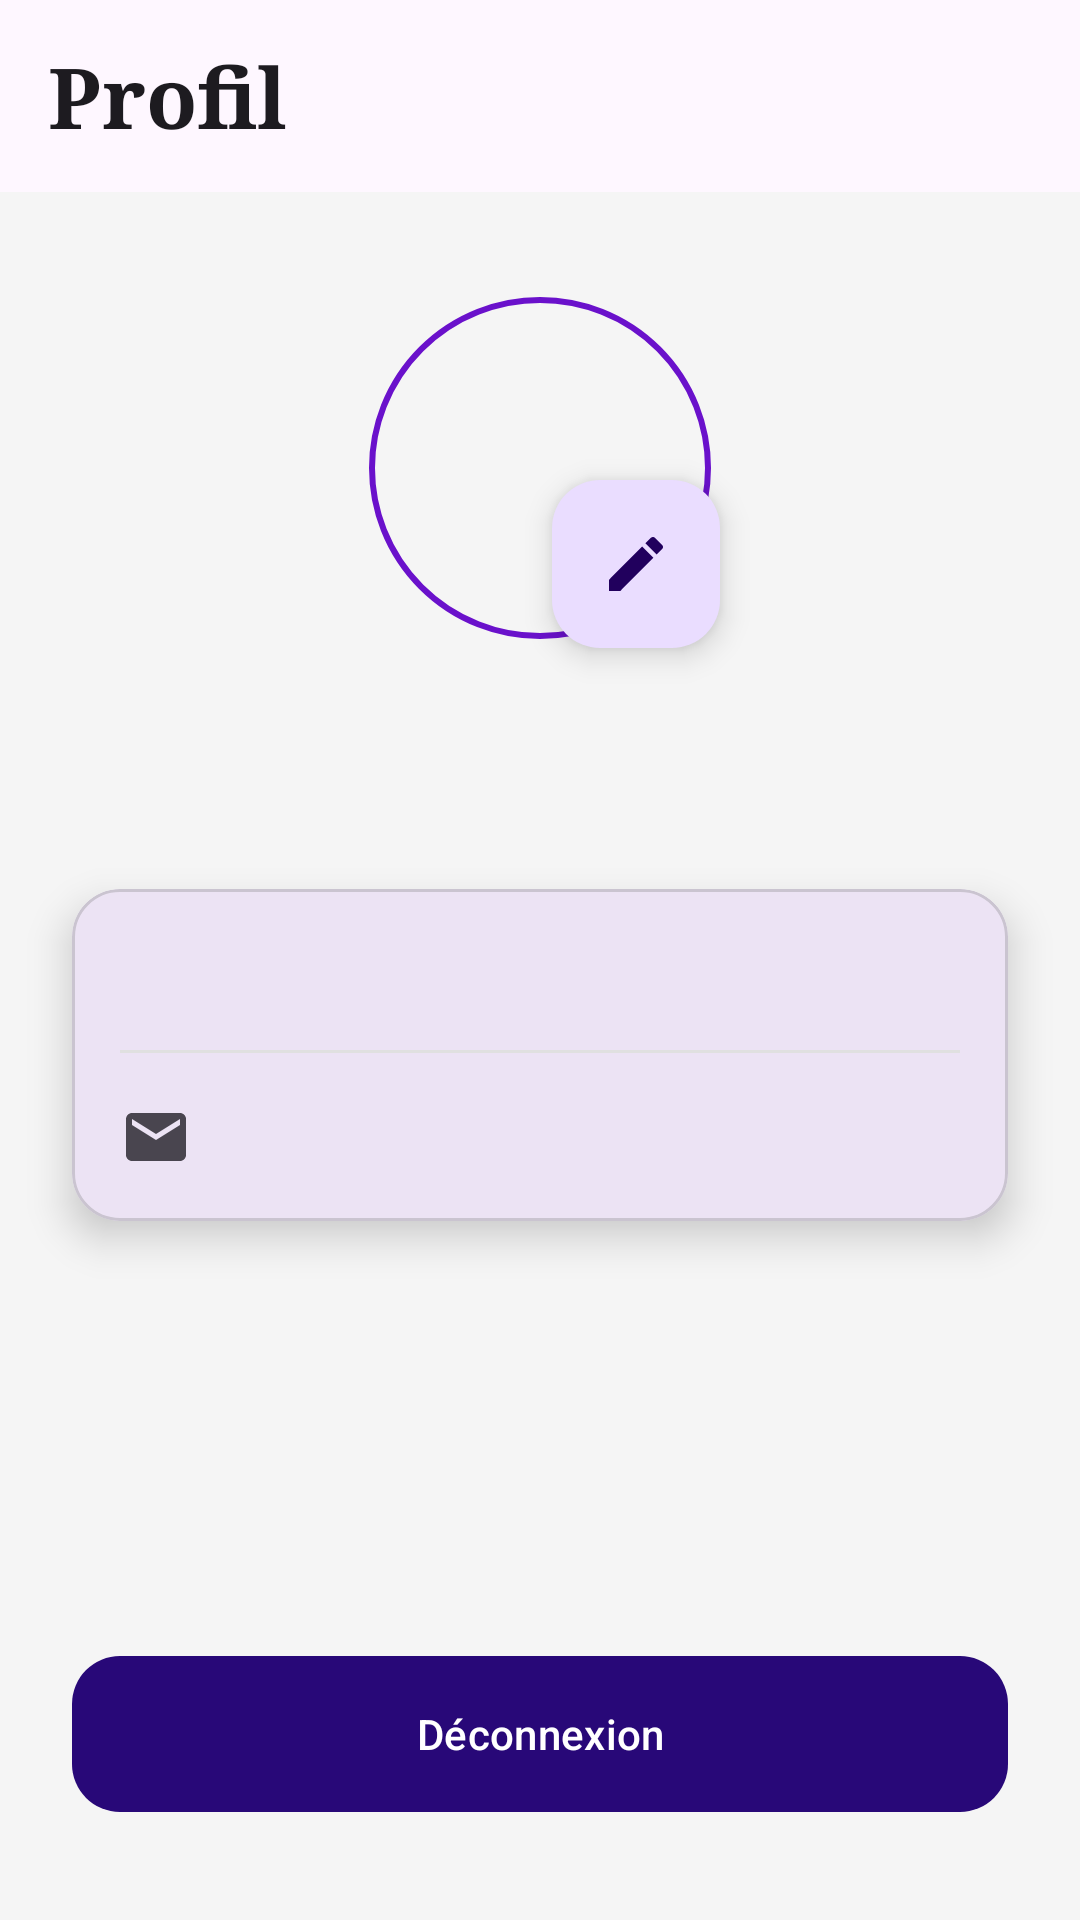

Icon bounding boxes for this 1080x1920 phone screenshot, format (x1, y1, x2, y2):
edit: (552, 480, 720, 648)
